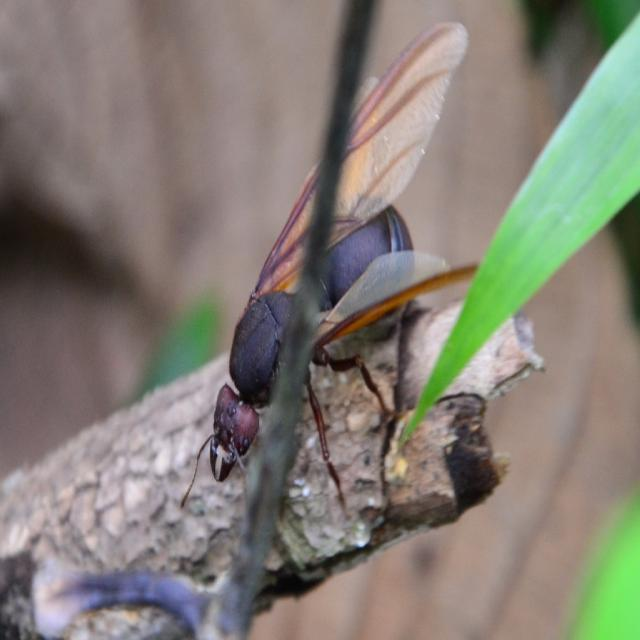Alive-Female-Alate: (180, 19, 493, 523)
